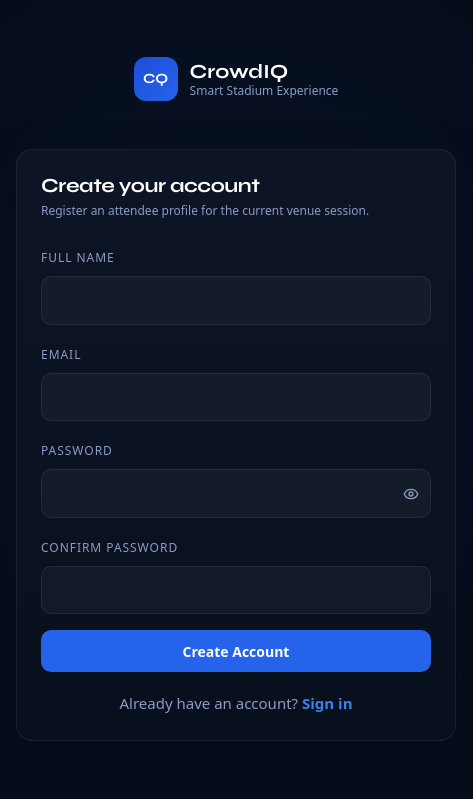
it: RegisterPage › shows a firebase-specific validation message when registration fails
Type "Test User" into the field labelled "Full Name" at (236, 301), box [41,276,431,325]
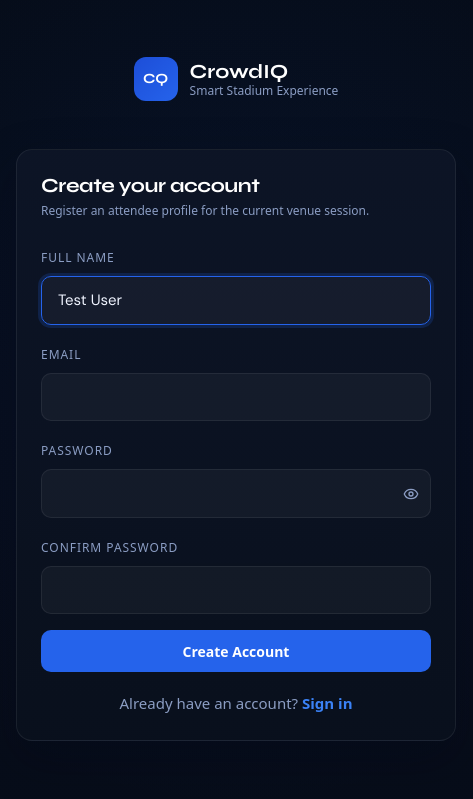
Type "test@example.com" into the field labelled "Email" at (236, 397), box [41,373,431,421]
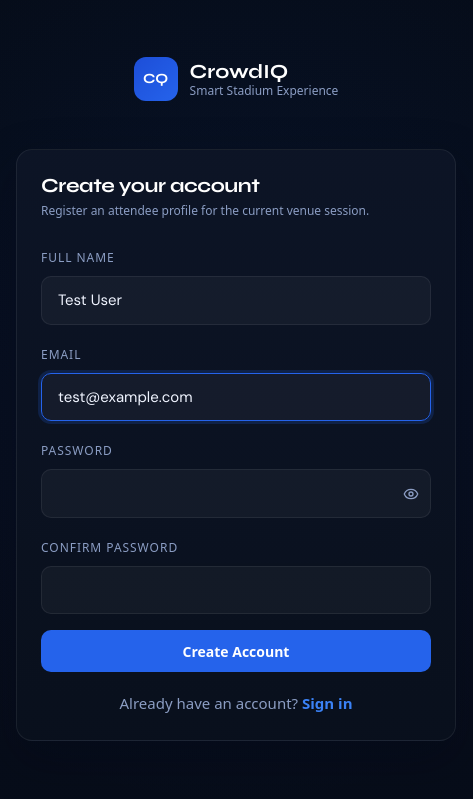
Type "password123" into the password field labelled "Password" at (236, 494), box [41,469,431,518]
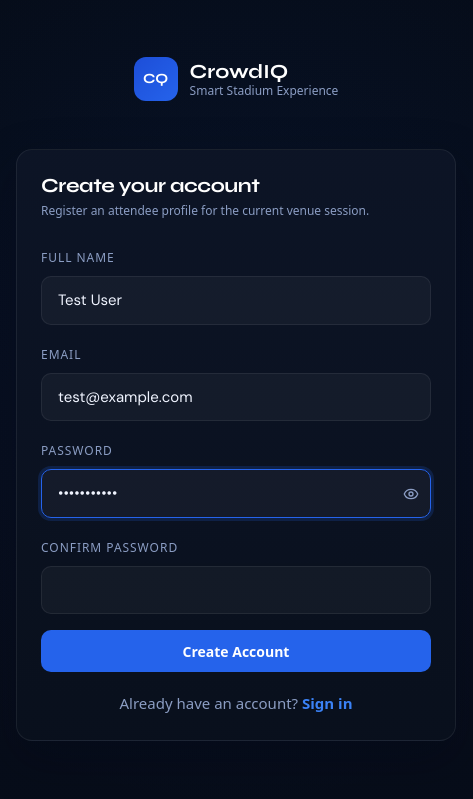
Type "password123" into the password field labelled "Confirm Password" at (236, 590), box [41,566,431,614]
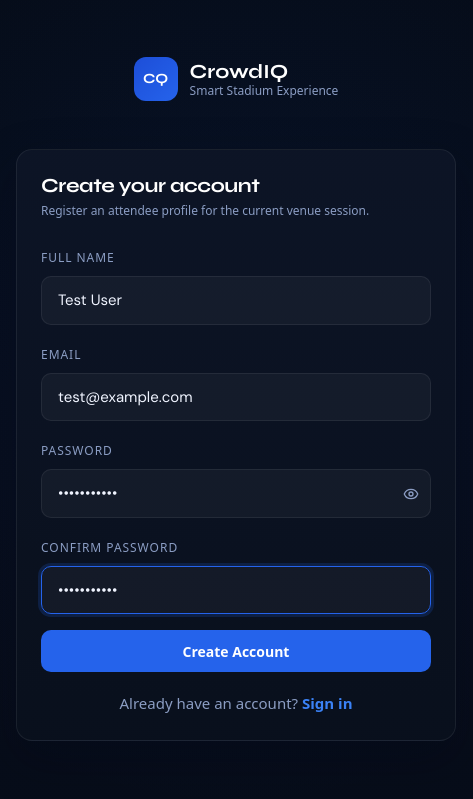
Click the button "Create Account" at (236, 651), box [41,630,431,672]
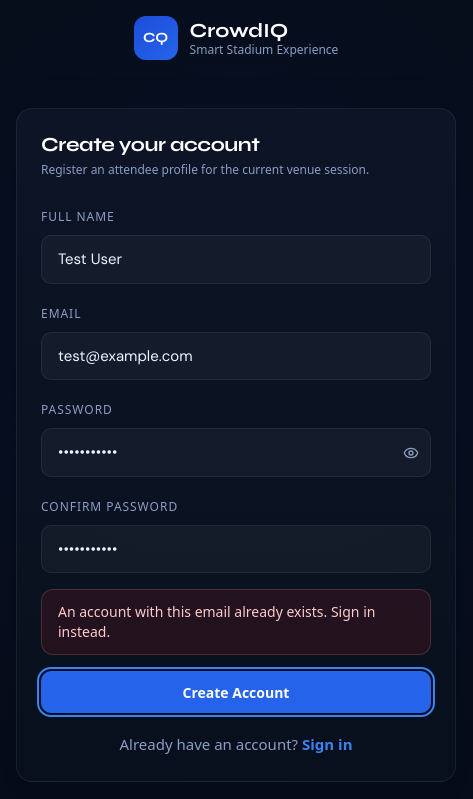
Now the text "An account with this email already exists. Sign in instead." is shown, box [41,589,431,655]
